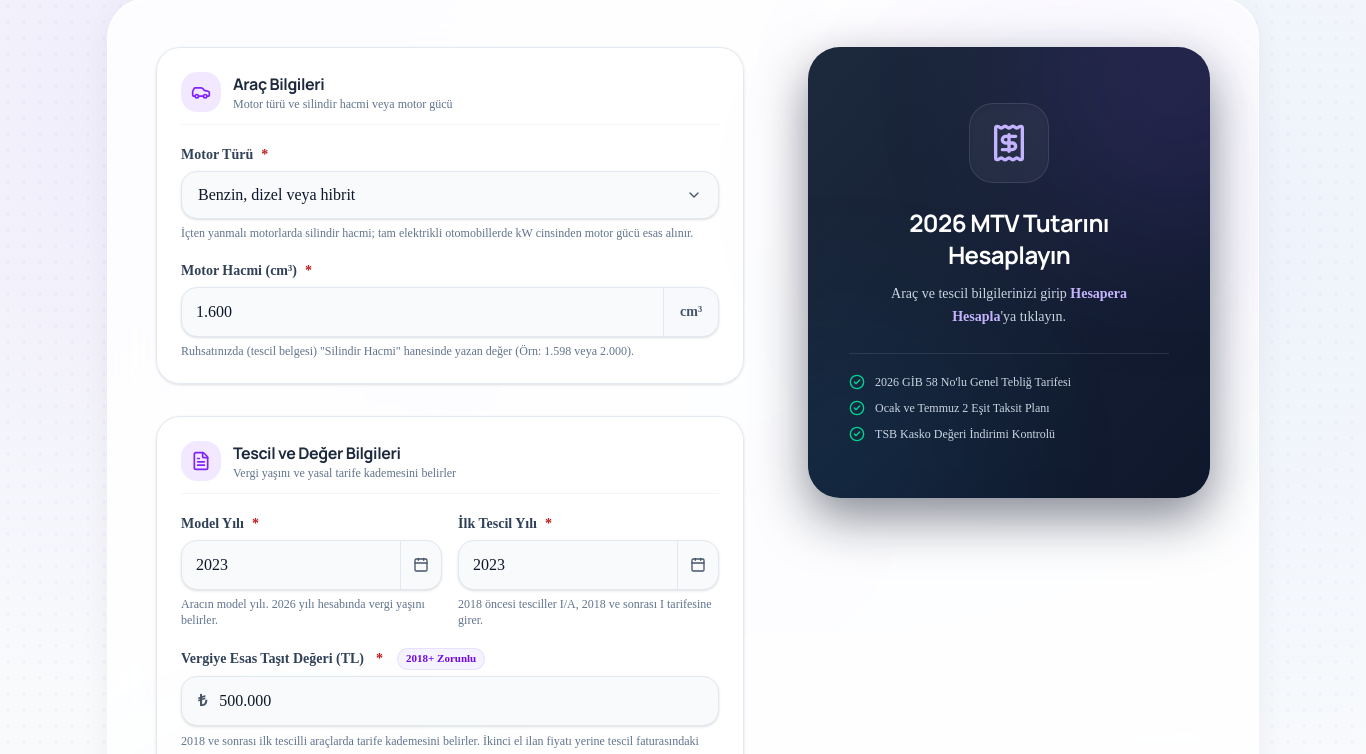
Test: MTV Form Component (MtvForm) › 3. elektrikli araç seçildiğinde motor hacmi gizlenir, kW gücü gönderilir ve indirim rozeti gösterilir
// Motor türünü elektrikli yap (select tetikleyici üzerinden veya doğrudan state tetikleme simülasyonu)
Click the dropdown.
click(277, 194)  # box [181,171,719,219]
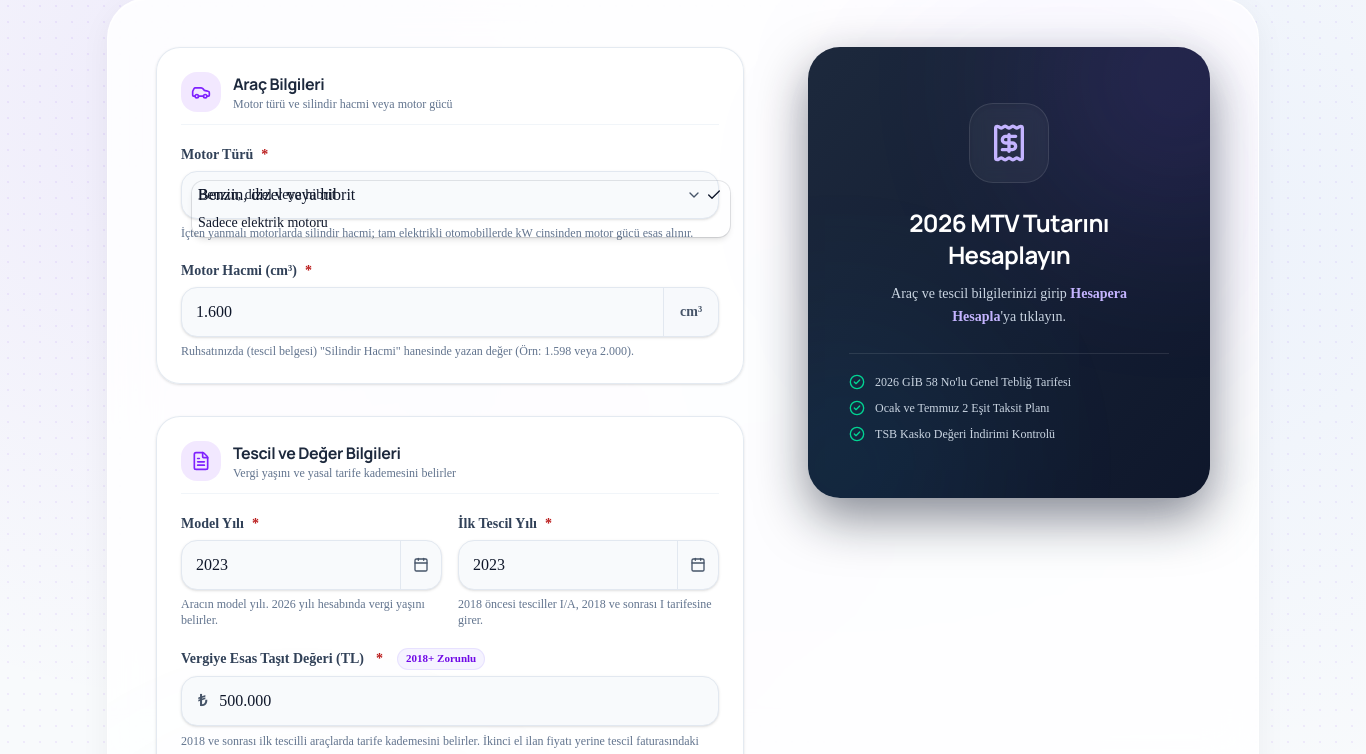
// SelectItem seçimi
Click the option "Sadece elektrik motoru".
click(263, 222)  # box [198,215,328,230]
(page scrolled)
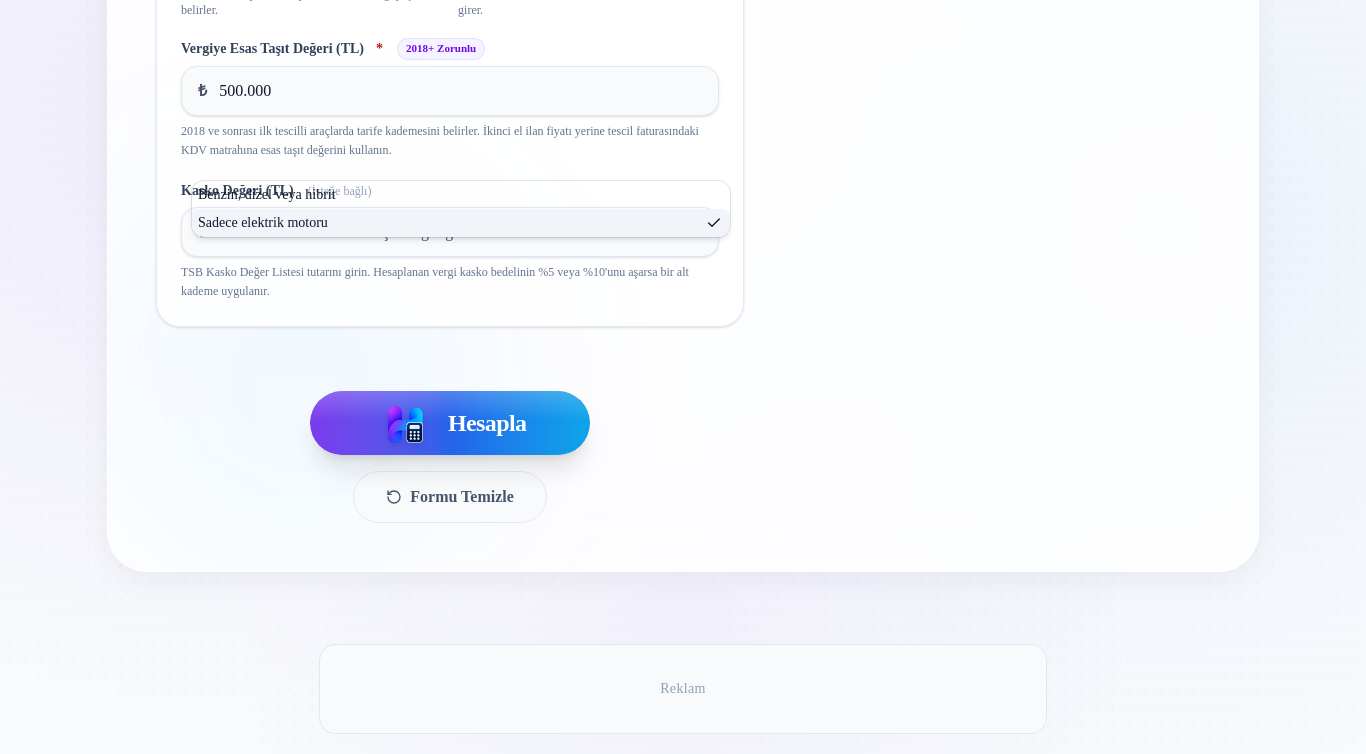
expect the label labelled "Motor Hacmi" is gone: met
Click the button "Hesapla".
click(450, 423)  # box [310,391,590,455]
(page scrolled)
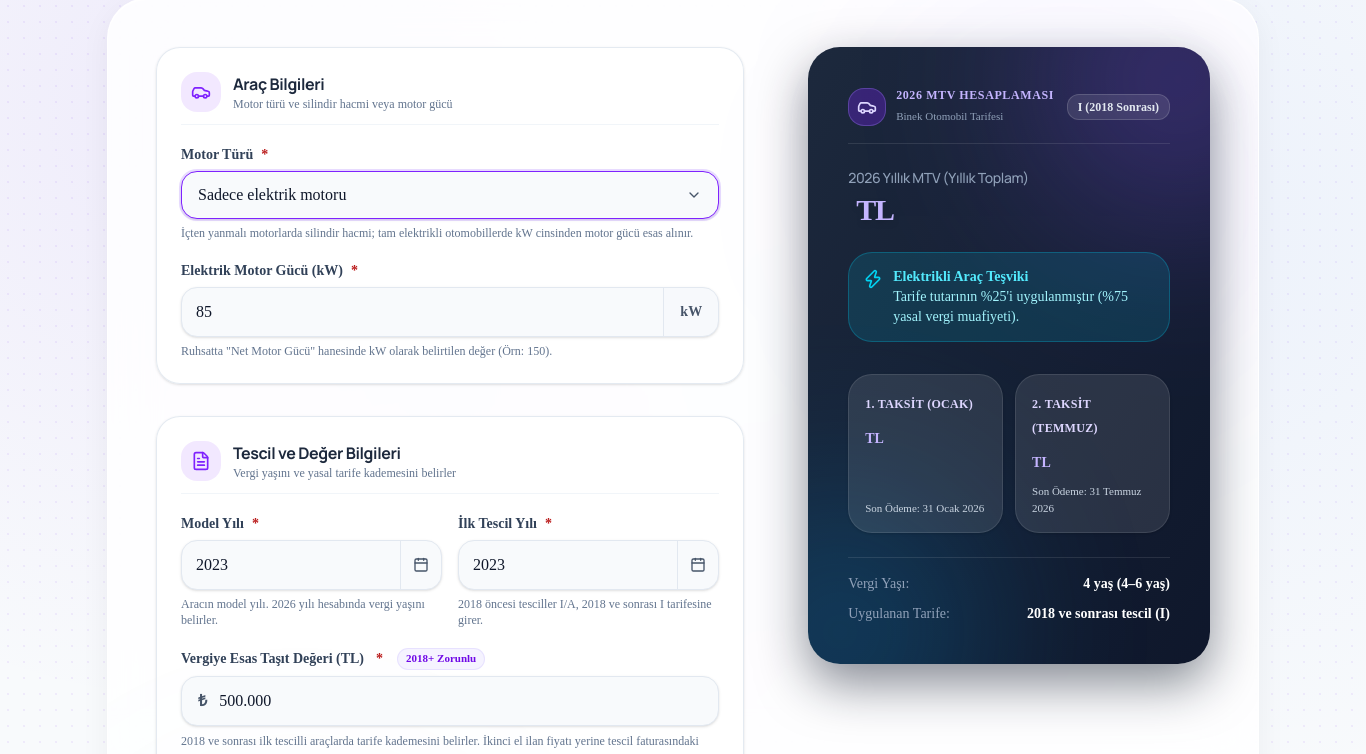
expect the text "Elektrikli Araç Teşviki" is shown: met, box [893,269,1029,284]
